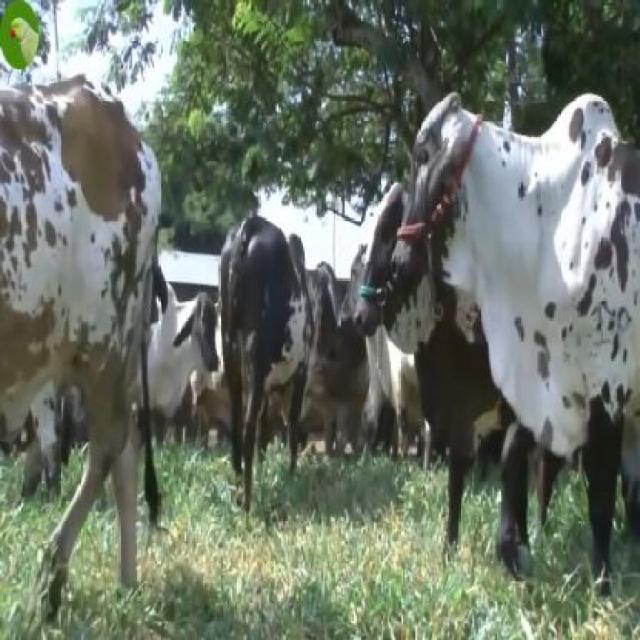Cow: (396, 89, 638, 586)
